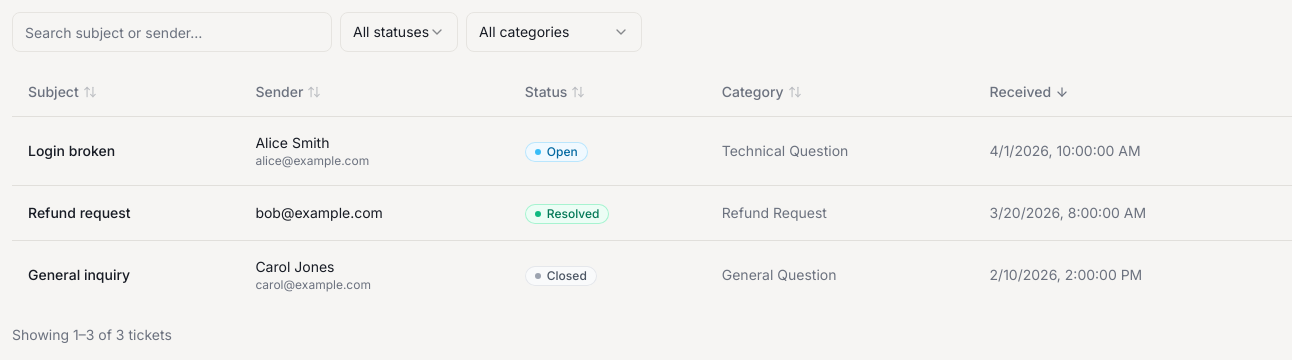
TicketsTable — filtering › shows the Clear button immediately when the search input is non-empty
expect the link "Login broken" is shown: met, box [28,142,115,158]
In the field with placeholder "Search subject or sender…": (172, 32) [12,12,332,52], type "test"
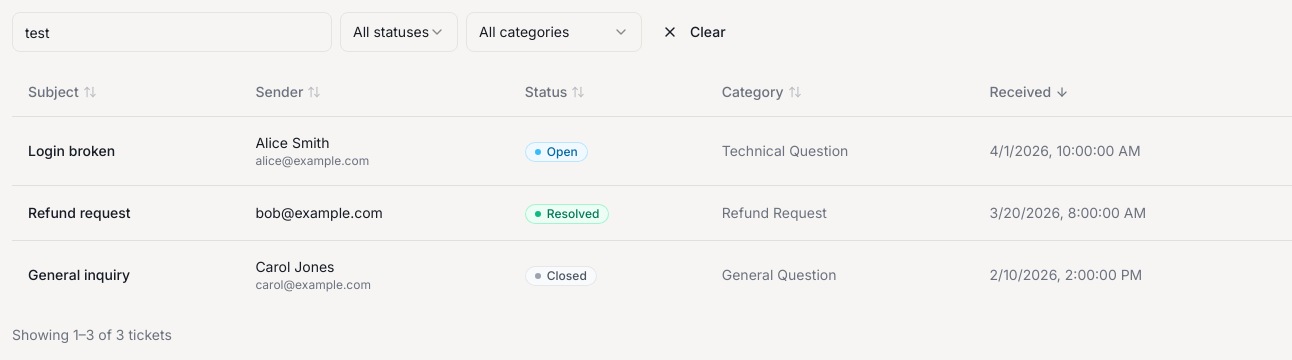
expect the button "Clear" is shown: met, box [650,14,738,50]
